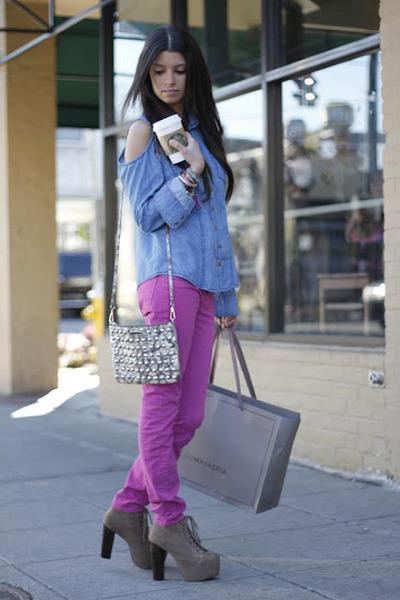bag: (104, 115, 300, 512)
pants: (120, 273, 218, 539)
shirt: (117, 132, 239, 317)
shoe: (101, 506, 219, 581)
